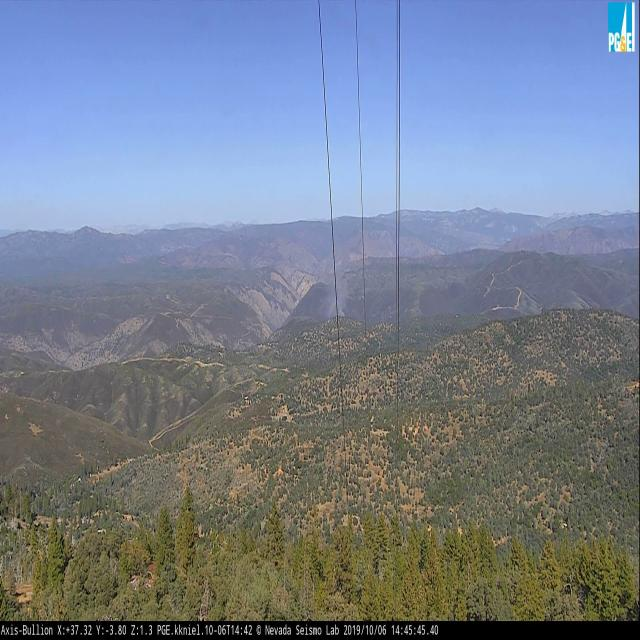smoke: (321, 249, 348, 323)
